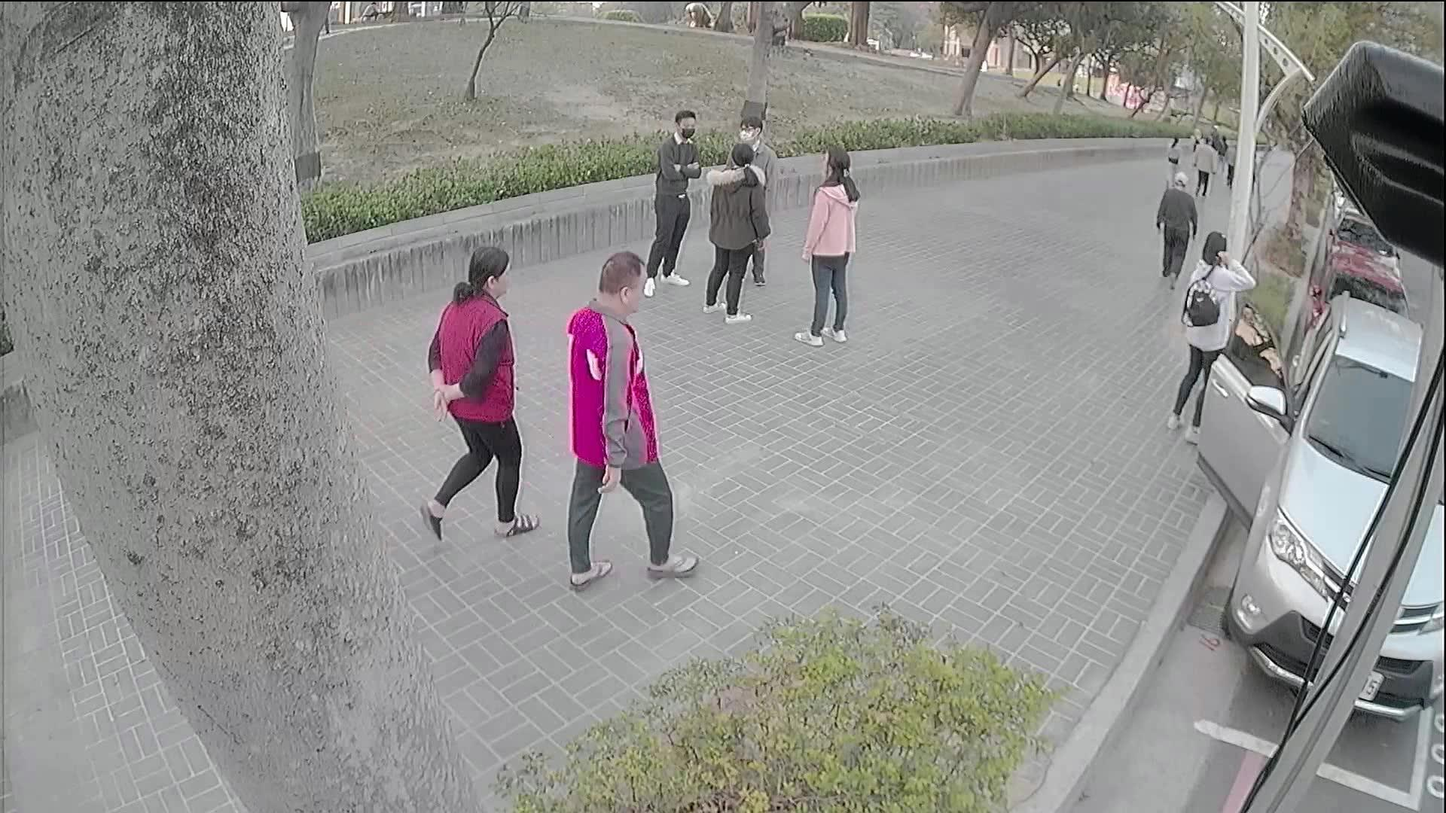person: (566, 250, 696, 587), (418, 243, 537, 536), (1161, 222, 1258, 449), (796, 147, 856, 340), (728, 110, 784, 299), (706, 150, 766, 318), (641, 117, 694, 294), (1155, 174, 1197, 285), (1193, 136, 1216, 199), (1162, 131, 1180, 177)
